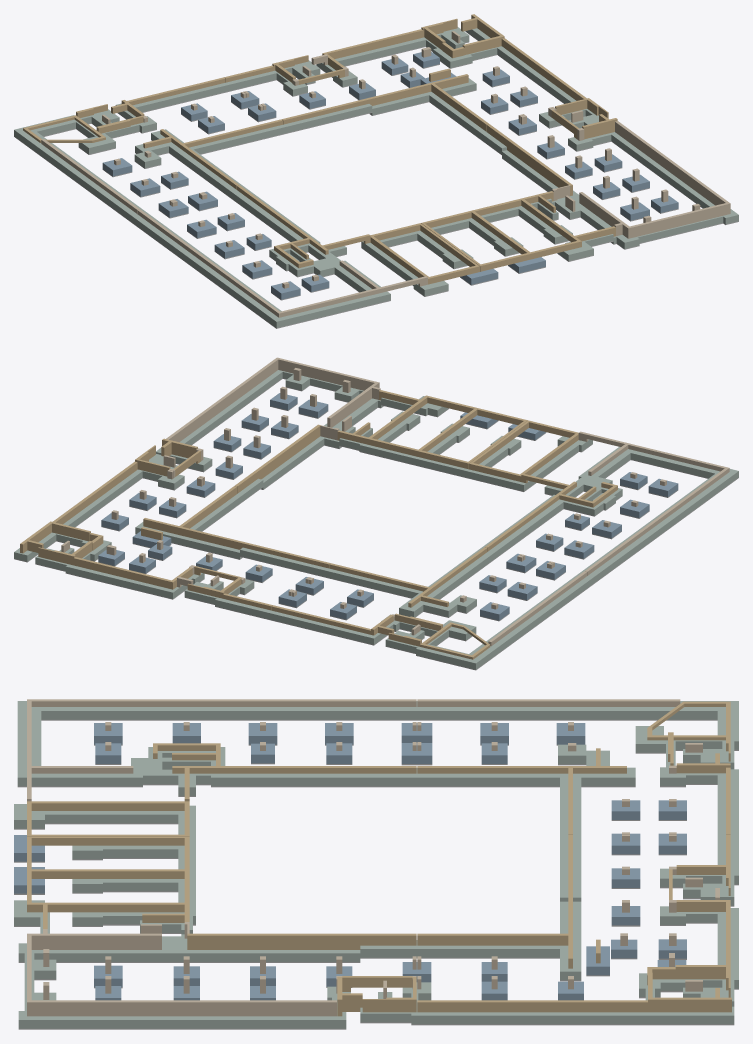
Rendered from zaklady_v03.glb.
3 views of the same model, one above another, from view 1: azimuth 30°, elevation 25°; view 2: azimuth 150°, elevation 25°; view 3: azimuth 270°, elevation 25° (orthographic). The views are drawn at different scales.
Parts seen in each view (by area): view 1: ZS-03, ZS-04, ZS-05, ZS-01, ZT-26, ZK-56, ZS-02, ZK-49, ZT-25, PB-ZS-03, ZT-24, ZK-48 (+14 smaller); view 2: ZS-03, ZS-05, ZS-01, ZS-04, ZT-26, ZK-56, ZT-25, ZK-49, PB-ZS-03, ZS-02, ZT-24, ZK-48 (+12 smaller); view 3: ZS-03, ZS-04, ZS-01, ZS-05, ZT-26, ZK-48, ZS-02, ZK-49, ZT-24, ZT-18, ZT-23, PB-ZS-03 (+36 smaller).
Part boxes in pixels (bbox=[...]): ZS-03: bbox=[14, 60, 390, 327]; ZS-04: bbox=[502, 132, 738, 248]; ZS-05: bbox=[361, 198, 572, 296]; ZS-01: bbox=[316, 27, 598, 128]; ZT-26: bbox=[421, 191, 615, 271]; ZK-56: bbox=[579, 192, 727, 238]; ZS-02: bbox=[370, 78, 506, 154]; ZK-49: bbox=[137, 209, 378, 317]; ZT-25: bbox=[370, 223, 479, 284]; PB-ZS-03: bbox=[14, 74, 390, 328]; ZT-24: bbox=[236, 185, 370, 268]; ZK-48: bbox=[615, 121, 730, 214]; ZS-03: bbox=[184, 447, 738, 669]; ZS-05: bbox=[339, 411, 592, 491]; ZS-01: bbox=[14, 454, 204, 598]; ZS-04: bbox=[156, 370, 382, 489]; ZT-26: bbox=[337, 390, 527, 469]; ZK-56: bbox=[278, 358, 379, 427]; ZT-25: bbox=[469, 420, 578, 481]; ZK-49: bbox=[585, 443, 729, 575]; PB-ZS-03: bbox=[184, 459, 738, 670]; ZS-02: bbox=[135, 478, 263, 558]; ZT-24: bbox=[485, 473, 617, 551]; ZK-48: bbox=[166, 357, 279, 442]; ZS-03: bbox=[17, 701, 738, 905]; ZS-04: bbox=[18, 934, 360, 1028]; ZS-01: bbox=[360, 906, 738, 1024]; ZS-05: bbox=[14, 804, 195, 934]; ZT-26: bbox=[27, 836, 189, 928]; ZK-48: bbox=[27, 1000, 336, 1016]; ZS-02: bbox=[360, 901, 581, 980]; ZK-49: bbox=[27, 699, 416, 765]; ZT-24: bbox=[153, 743, 416, 801]; ZT-18: bbox=[417, 1000, 647, 1012]; ZT-23: bbox=[187, 933, 355, 949]; PB-ZS-03: bbox=[17, 719, 738, 906].
Bounding box in the file's own units: 61.85 × 2.45 × 61.05.
